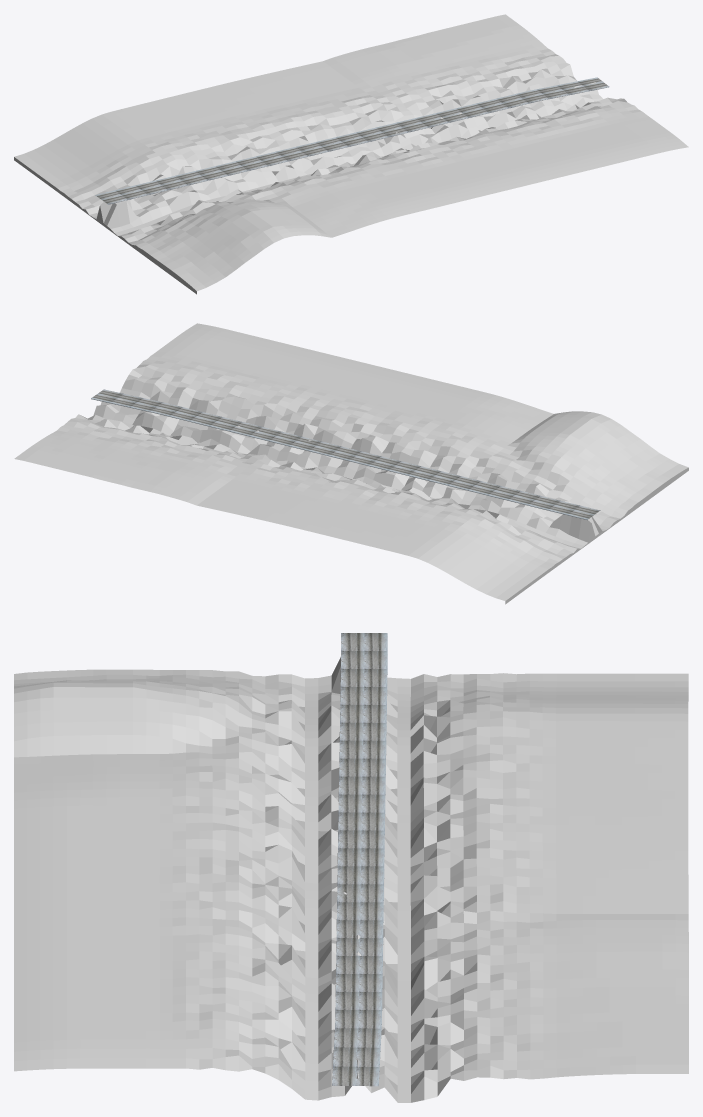
The model's file is scene_1_road2.fbx.
The picture shows the model from 3 angles, top to bottom: view 1: azimuth 30°, elevation 25°; view 2: azimuth 150°, elevation 25°; view 3: azimuth 270°, elevation 25°; orthographic projection. The views are drawn at different scales.
Visible parts, largest first — view 1: Plane.001, road_8x_10y_03z.001; view 2: Plane.001, road_8x_10y_03z.001; view 3: Plane.001, road_8x_10y_03z.001.
Boxes of the visible parts, x1,y1,x2,y2 form: Plane.001: [14, 14, 688, 294]; road_8x_10y_03z.001: [95, 77, 609, 204]; Plane.001: [14, 323, 688, 604]; road_8x_10y_03z.001: [91, 389, 600, 520]; Plane.001: [14, 657, 688, 1102]; road_8x_10y_03z.001: [332, 633, 387, 1086].
Size of the model in its own units: 25010 by 1840 by 15897.
